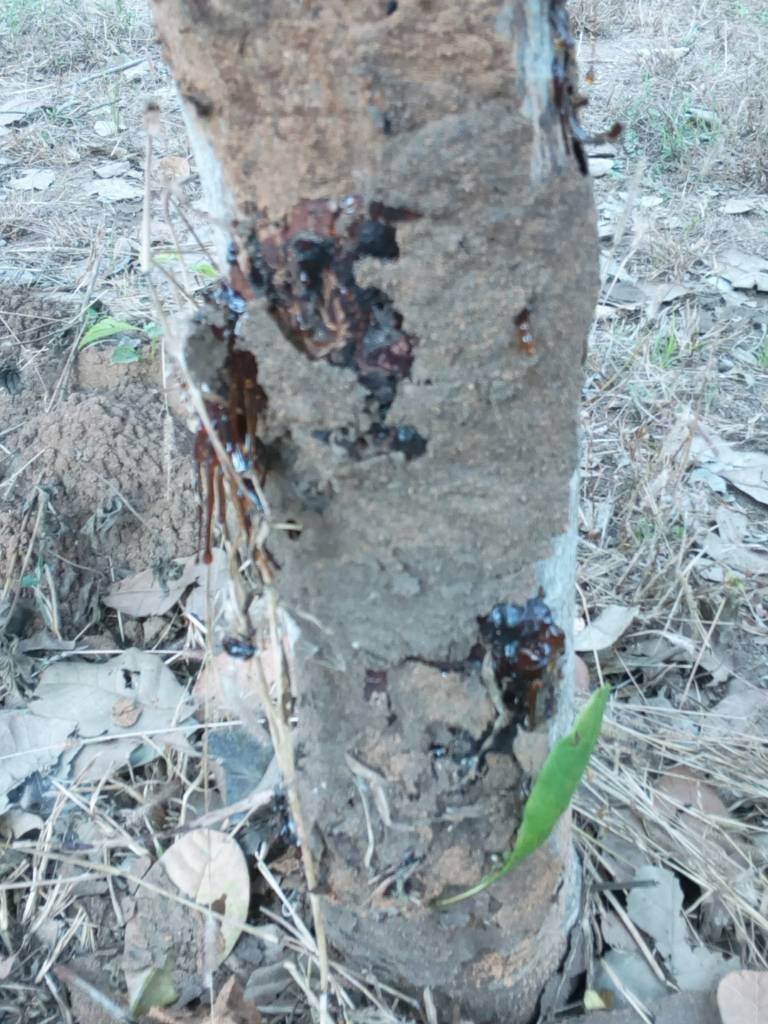Termites: (305, 447, 555, 977), (410, 63, 591, 446), (186, 3, 400, 180)
